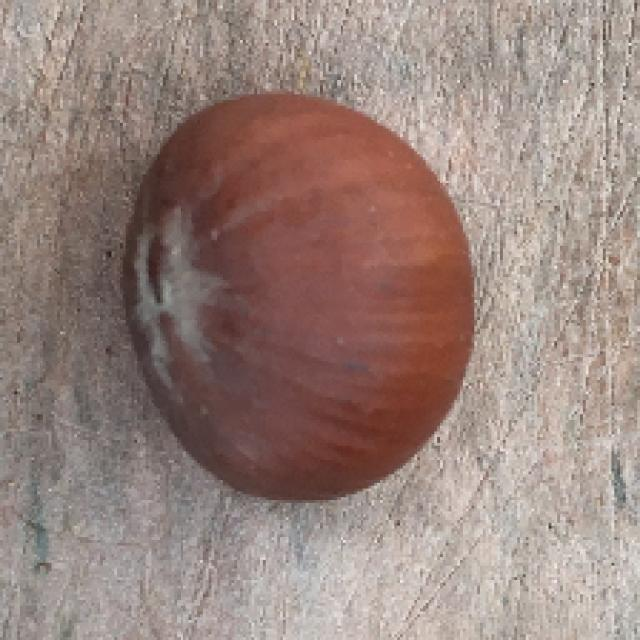qualityHazelnut: (121, 95, 486, 504)
